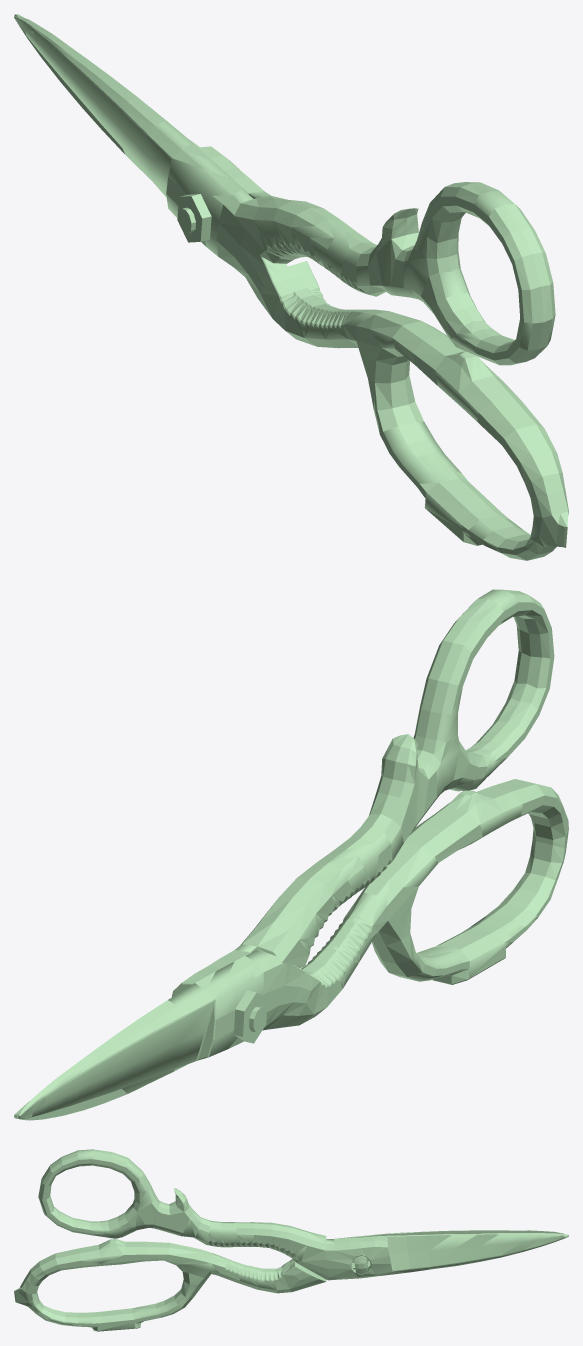
File: scissors2_0.dae
3 renders of one model, top to bottom at view 1: azimuth 30°, elevation 25°; view 2: azimuth 150°, elevation 25°; view 3: azimuth 270°, elevation 25°, orthographic. The views are drawn at different scales.
Parts seen in each view (by area): view 1: M004947_019; view 2: M004947_019; view 3: M004947_019.
Part boxes in pixels (<box>): M004947_019: <box>14,14,568,560</box>; M004947_019: <box>14,589,568,1120</box>; M004947_019: <box>14,1149,568,1331</box>.
Size of the model in its own units: 0.0176 by 0.253 by 0.0896.
